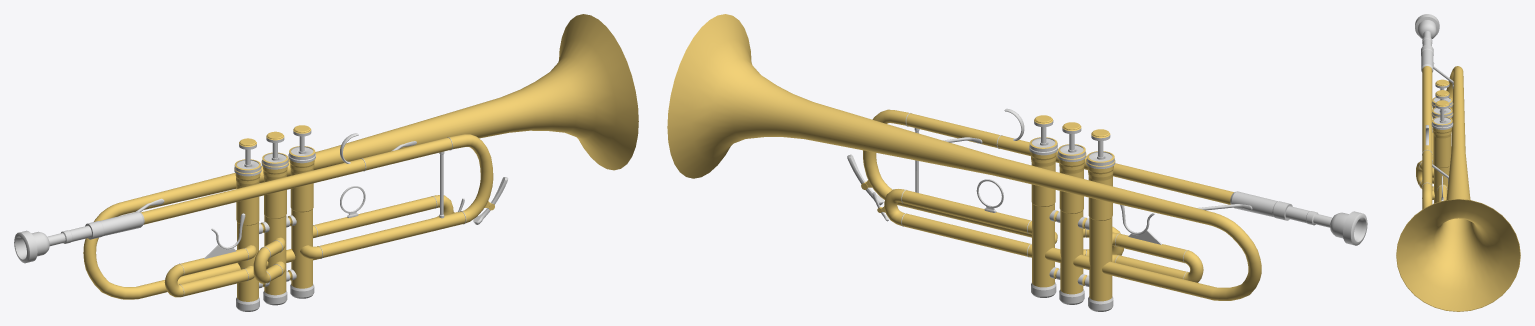
The model's file is trumpet.glb.
The picture shows the model from 3 angles, left to right: view 1: azimuth 30°, elevation 25°; view 2: azimuth 150°, elevation 25°; view 3: azimuth 270°, elevation 25°; orthographic projection. The views are drawn at different scales.
Visible parts, largest first — view 1: trumpet; view 2: trumpet; view 3: trumpet.
Boxes of the visible parts, x1,y1,x2,y2 form: trumpet: [14, 14, 638, 311]; trumpet: [667, 14, 1367, 311]; trumpet: [1396, 14, 1520, 311].
Bounding box in the file's own units: 1.49 × 0.4559 × 0.3444.
